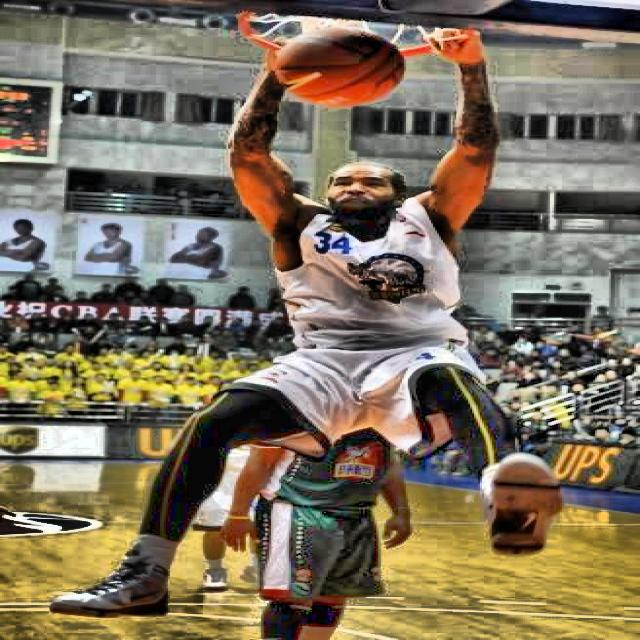board: (272, 29, 411, 108)
